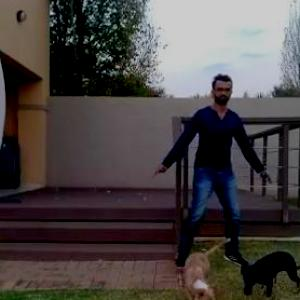land: (154, 77, 269, 274)
